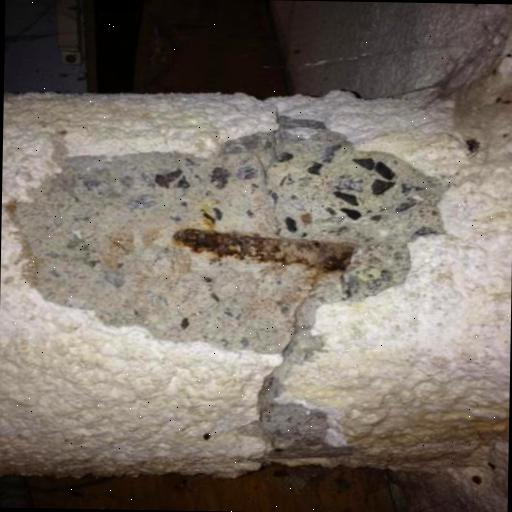spalling: (14, 120, 447, 464)
